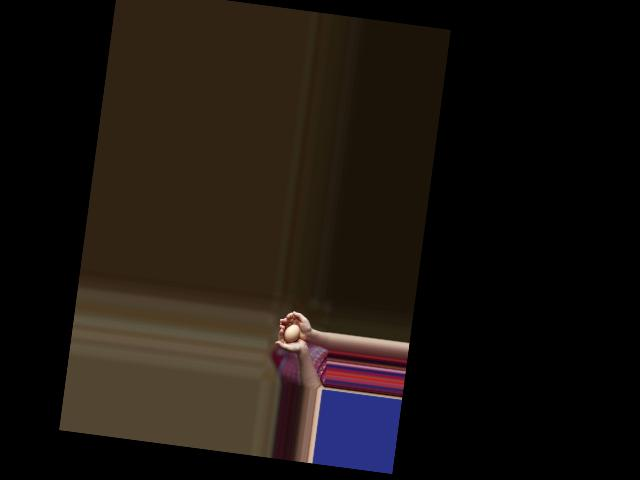egg: (282, 323, 300, 344)
